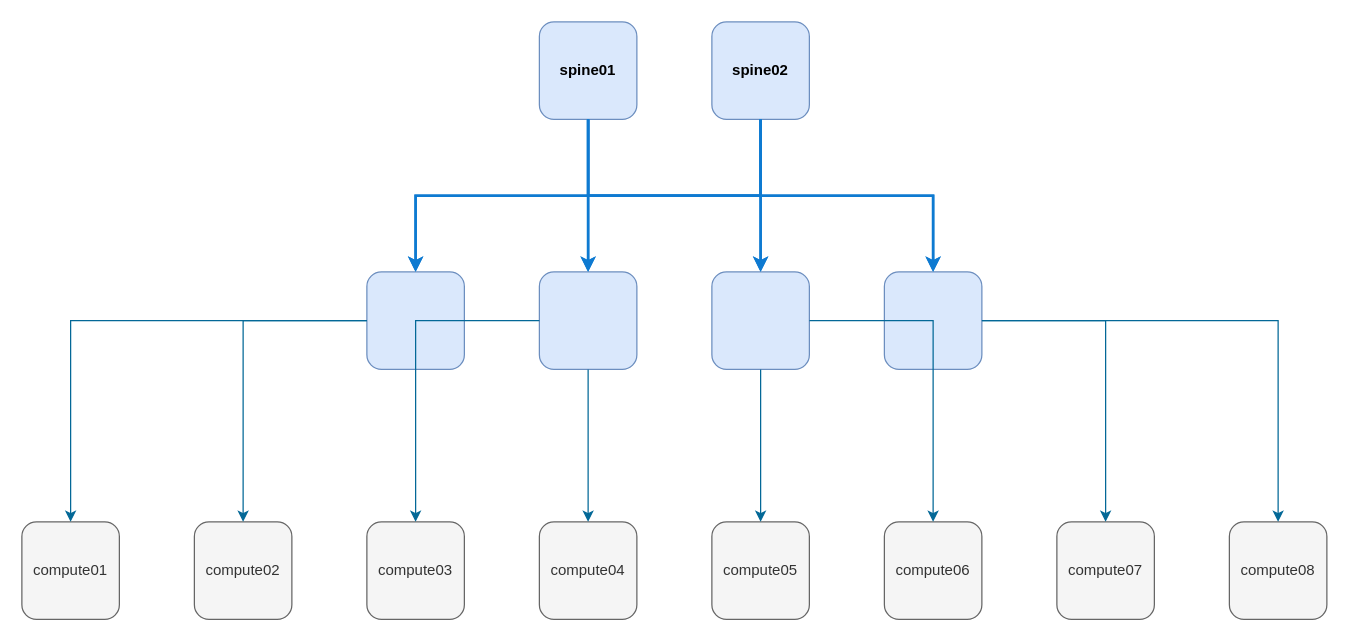
The diagram is 1349 pixels wide and 641 high, and some of its shapes have lost their labels. Here are the shapes that lost their labels. From the top down, the centre of each, then its label:
(415,320): leaf01
(587,320): leaf02
(760,320): leaf03
(932,320): leaf04
